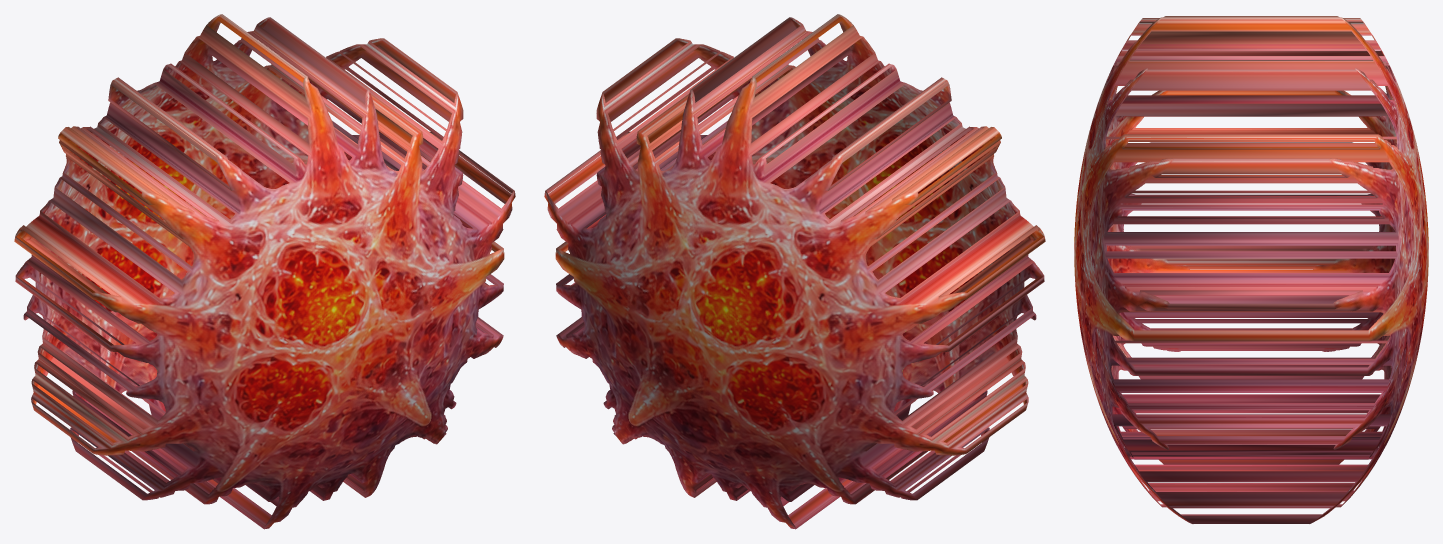
3 renders of one model, left to right at view 1: azimuth 30°, elevation 25°; view 2: azimuth 150°, elevation 25°; view 3: azimuth 270°, elevation 25°, orthographic. The views are drawn at different scales.
Parts seen in each view (by area): view 1: cells:6; view 2: cells:6; view 3: cells:6.
Boxes of the visible parts, <box> form: cells:6: <box>14,14,515,529</box>; cells:6: <box>544,14,1045,529</box>; cells:6: <box>1074,16,1428,523</box>.
Size of the model in its own units: 0.952 by 0.9583 by 0.66.
1 material, 1 textured.
